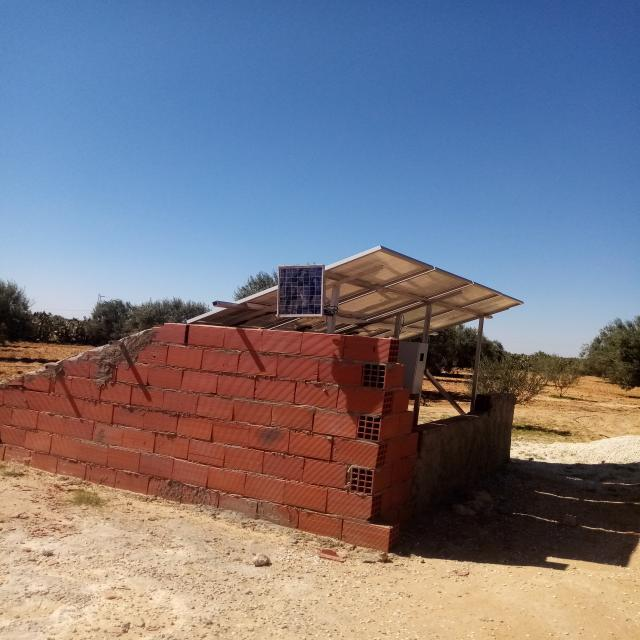faulty: (278, 265, 323, 316)
